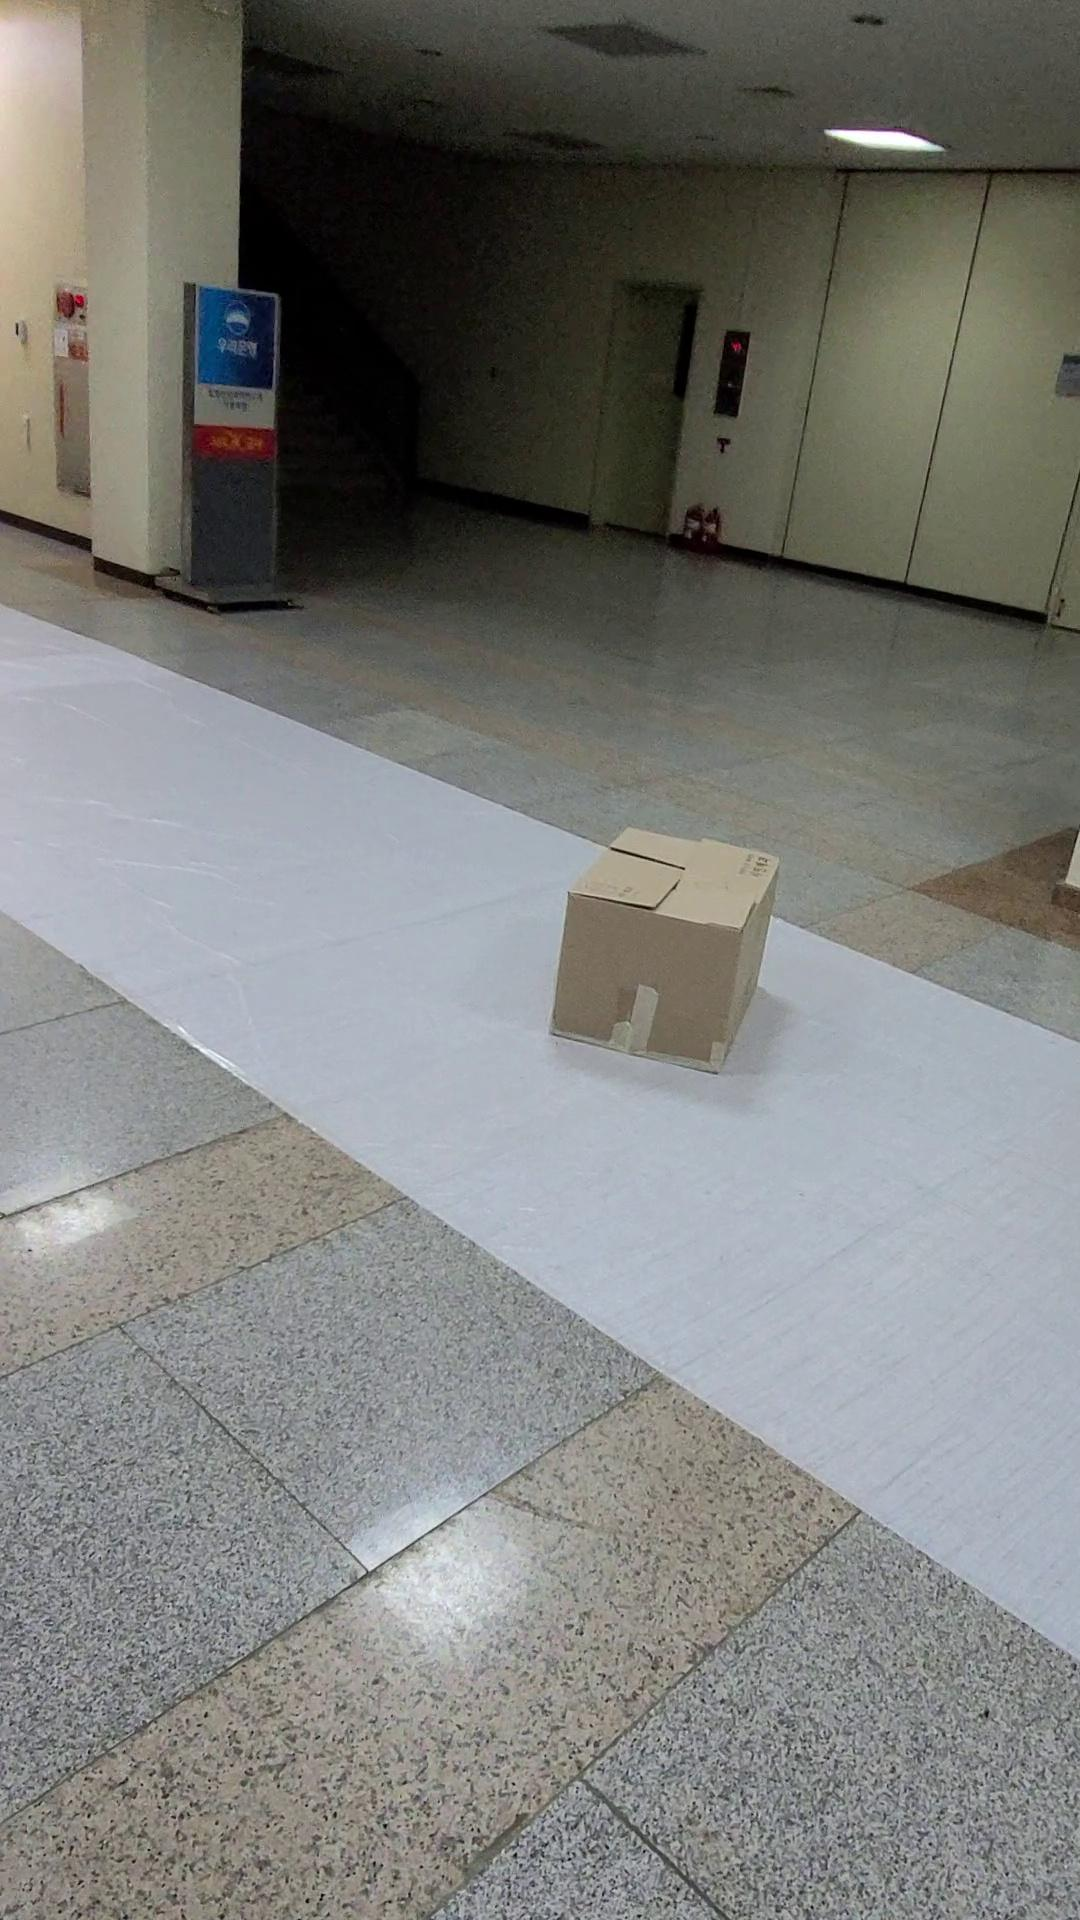Box: (502, 758, 827, 1088)
